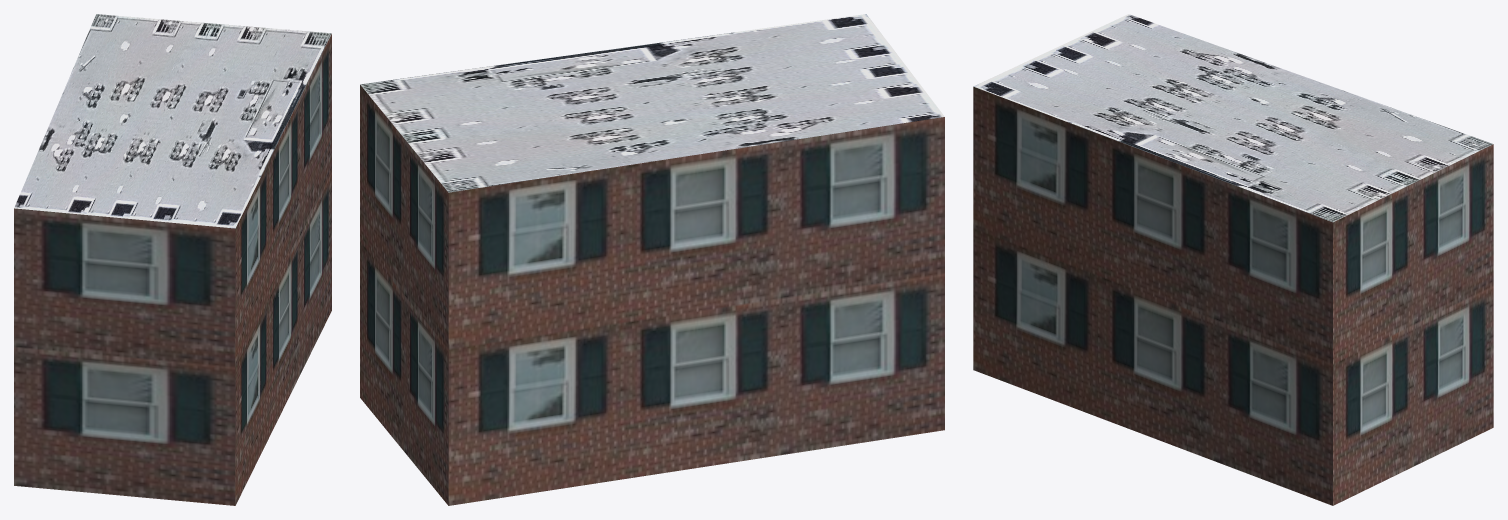
File: ResTex__5276.fbx
3 renders of one model, left to right at view 1: azimuth 30°, elevation 25°; view 2: azimuth 150°, elevation 25°; view 3: azimuth 270°, elevation 25°, orthographic. The views are drawn at different scales.
Parts seen in each view (by area): view 1: CityEngineMaterial_14_m, CityEngineMaterial_8_m; view 2: CityEngineMaterial_14_m, CityEngineMaterial_8_m; view 3: CityEngineMaterial_14_m, CityEngineMaterial_8_m.
Boxes of the visible parts, <box> form: CityEngineMaterial_14_m: <box>14,34,331,505</box>; CityEngineMaterial_8_m: <box>14,14,331,228</box>; CityEngineMaterial_14_m: <box>360,85,944,505</box>; CityEngineMaterial_8_m: <box>360,14,944,192</box>; CityEngineMaterial_14_m: <box>973,86,1493,505</box>; CityEngineMaterial_8_m: <box>973,14,1493,222</box>.
Size of the model in its own units: 9.46 by 6 by 9.98.
2 materials, 2 textured.
